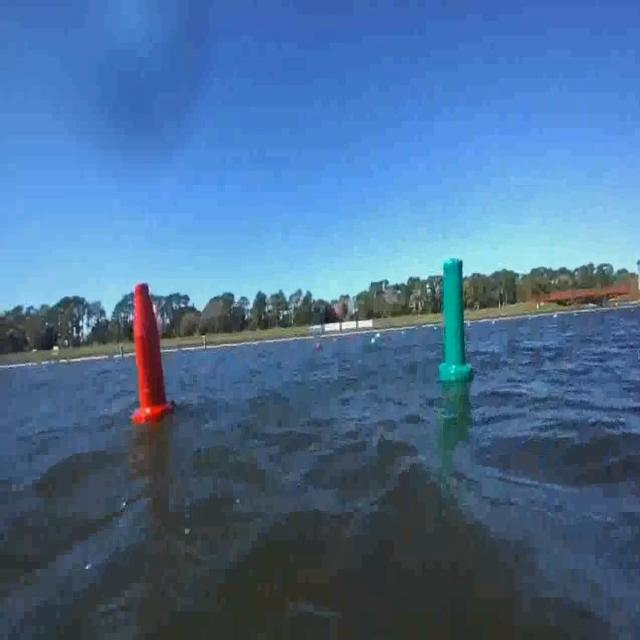green-column-buoy: (437, 256, 471, 386)
red-column-buoy: (132, 279, 171, 424)
